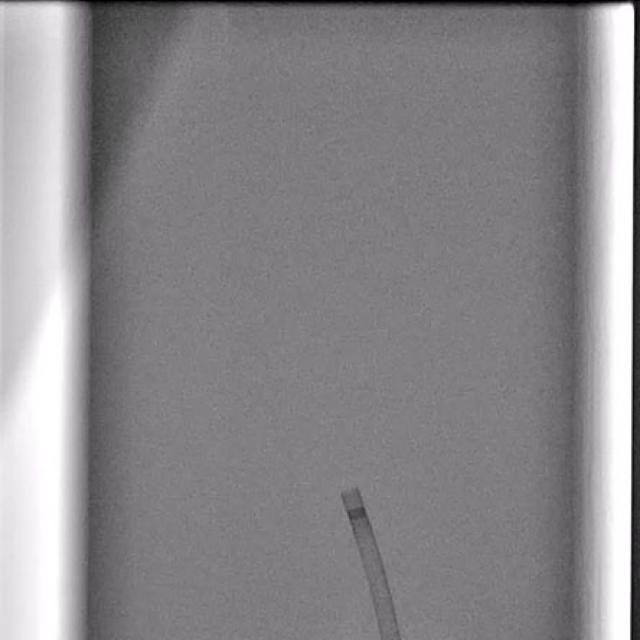entry: (379, 634, 402, 640)
marker: (346, 507, 369, 522)
tip: (340, 488, 360, 497)
